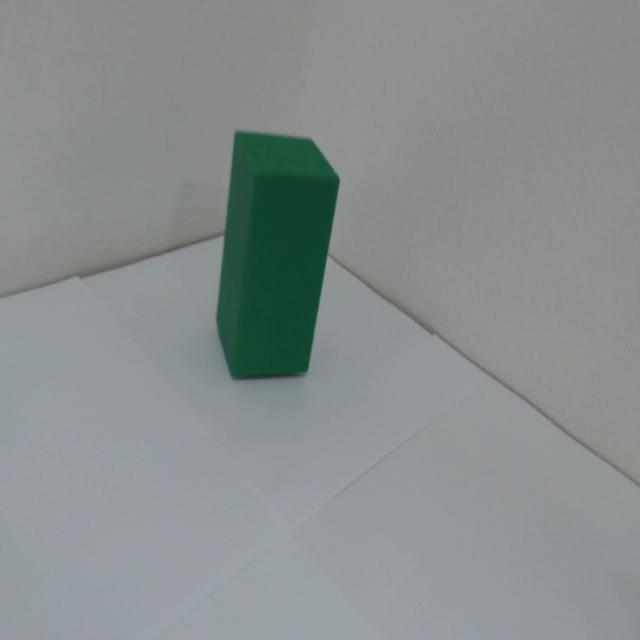cube: (205, 90, 359, 417)
